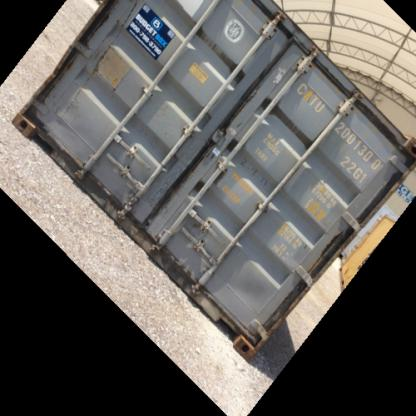Damage: (145, 146, 196, 212), (82, 40, 131, 95), (196, 26, 237, 67), (39, 56, 74, 96), (237, 154, 270, 194), (318, 219, 342, 259)
